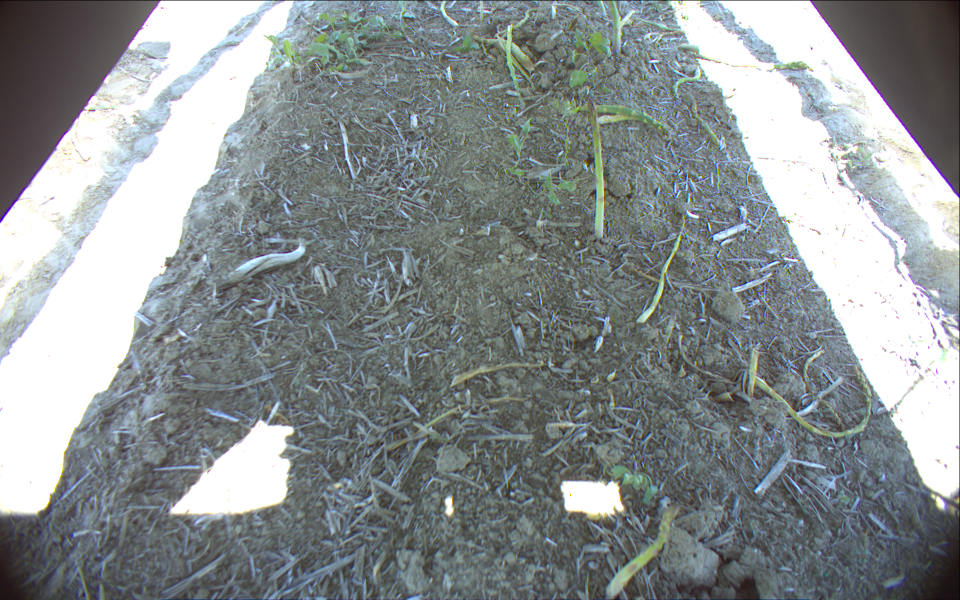aspa: (600, 500, 688, 600), (579, 95, 610, 240), (604, 1, 624, 62)
